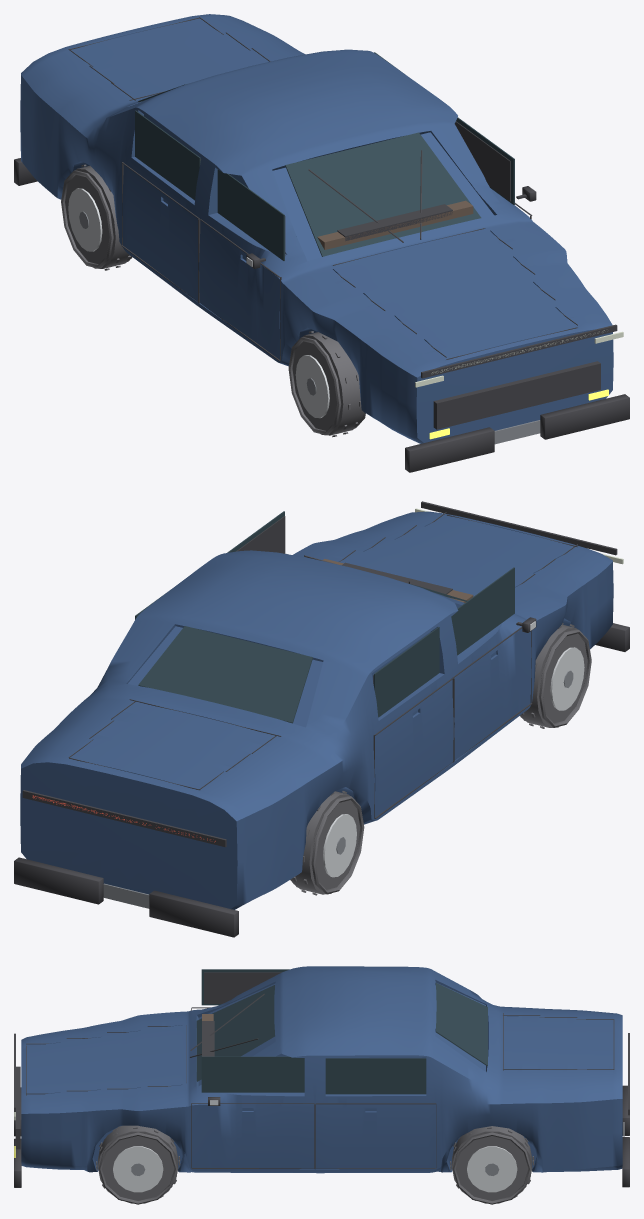
The model's file is Sedan_Mid_A.fbx.
The picture shows the model from 3 angles, top to bottom: view 1: azimuth 30°, elevation 25°; view 2: azimuth 150°, elevation 25°; view 3: azimuth 270°, elevation 25°; orthographic projection. The views are drawn at different scales.
Visible parts, largest first — view 1: LOD0; view 2: LOD0; view 3: LOD0.
Part boxes in pixels (x1,y1,x2,y2): LOD0: [14, 14, 629, 472]; LOD0: [14, 501, 629, 937]; LOD0: [14, 966, 629, 1204].
Size of what is drawn, in the model's own units: 204 by 144 by 491.
